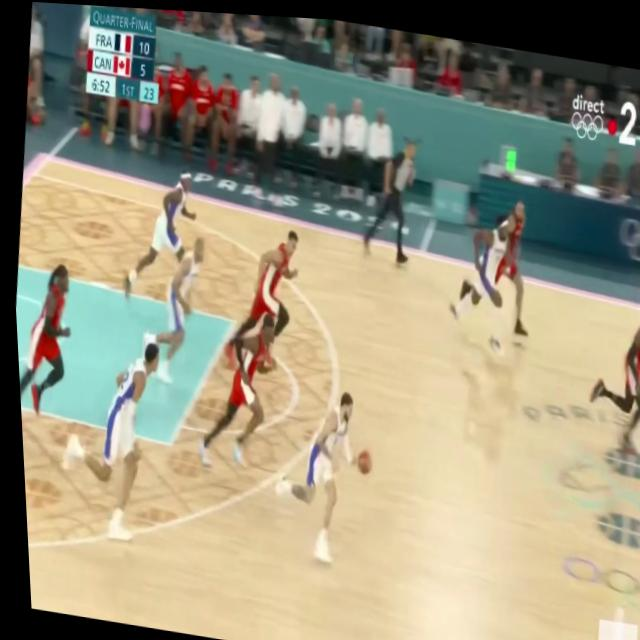ball_handler: (289, 373, 381, 566)
